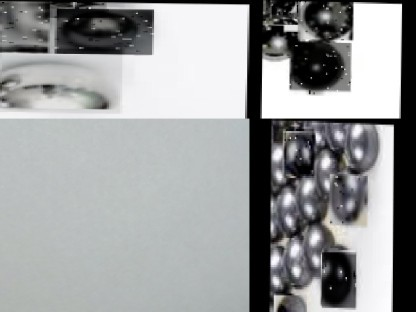ironball: (0, 46, 123, 112), (55, 7, 154, 53), (290, 40, 352, 93), (0, 0, 49, 51), (297, 0, 353, 38), (329, 170, 367, 223), (322, 248, 356, 305), (342, 122, 379, 166), (311, 149, 347, 194), (282, 236, 314, 286), (262, 18, 303, 57), (292, 176, 326, 221), (272, 182, 302, 232), (284, 126, 314, 174), (302, 224, 332, 271), (267, 241, 290, 289), (44, 0, 106, 17), (269, 139, 289, 189), (270, 189, 284, 243), (318, 123, 344, 150), (275, 290, 306, 311), (265, 0, 299, 14), (271, 119, 276, 154), (270, 250, 271, 304)
